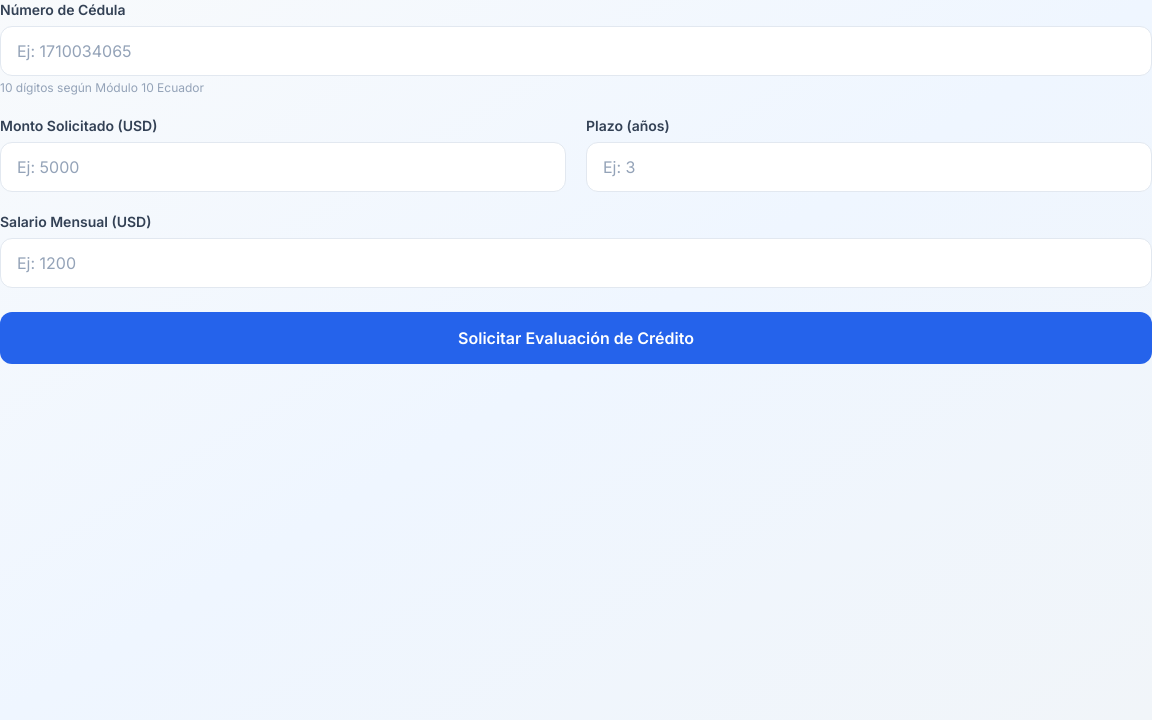
EvaluationForm › shows validation error for invalid cedula format
Type "123" into the field labelled "Número de Cédula" at [576, 51], box [0,26,1151,76]
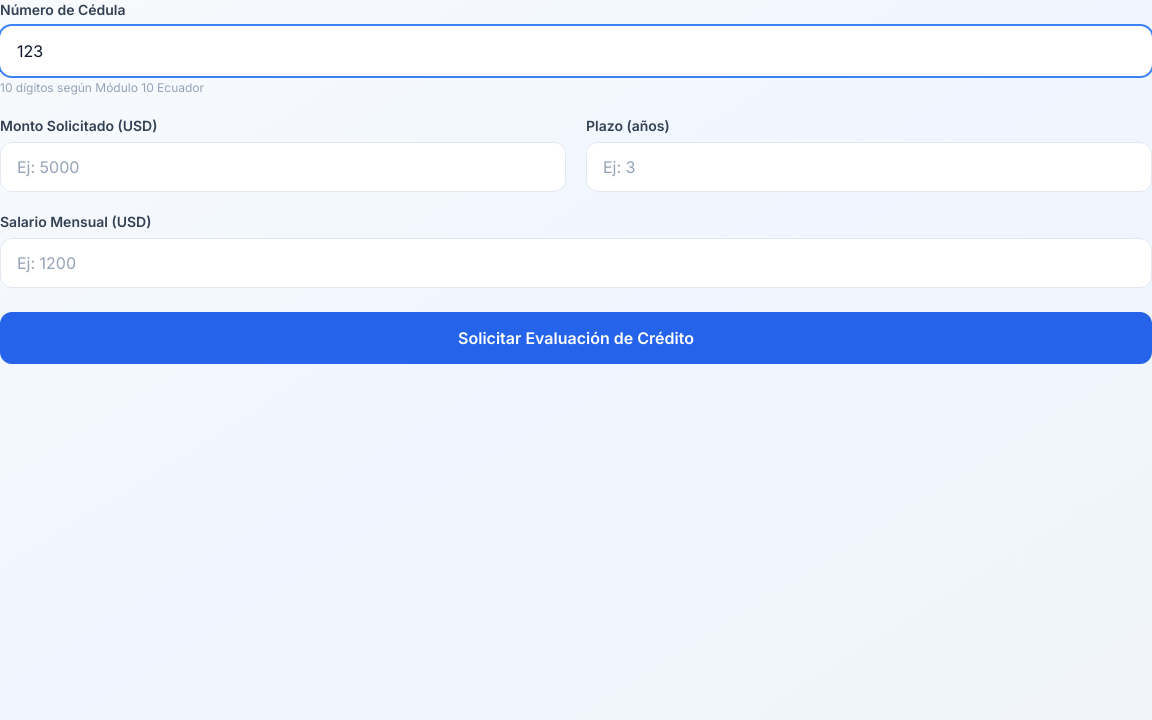
Click the button "Solicitar Evaluación de Crédito" at [576, 338], box [0,312,1151,364]
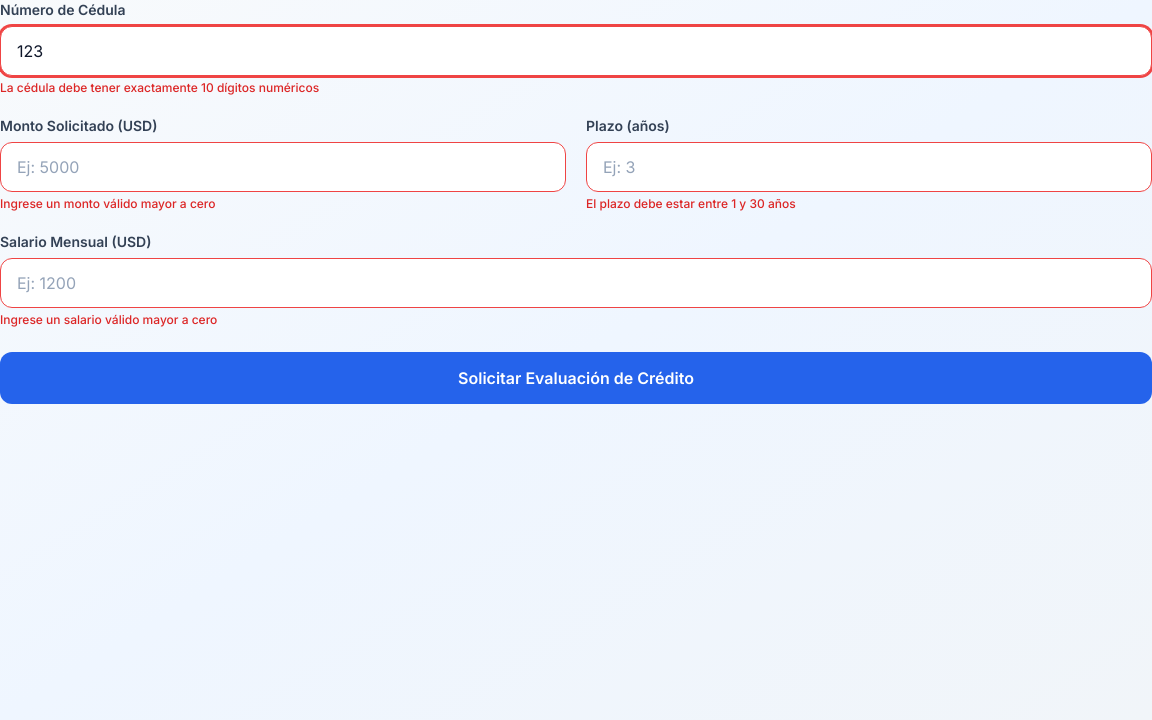
Now the text "La cédula debe tener exactamente 10 dígitos numéricos" is shown, box [0,80,319,95]
